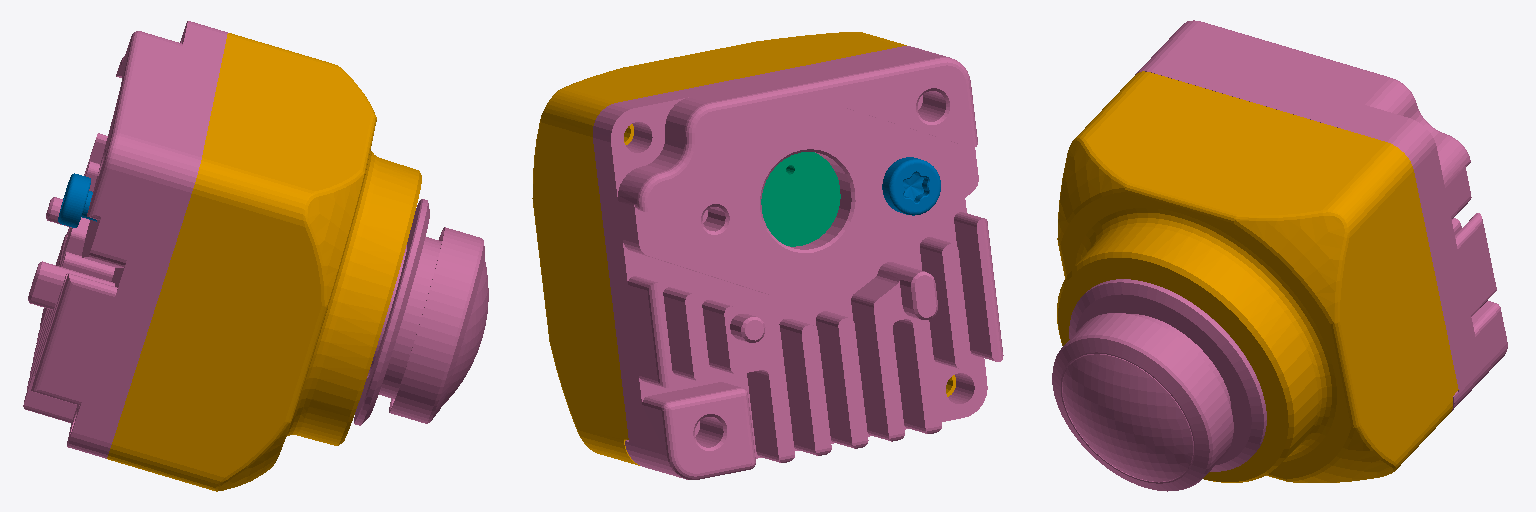
URDF robot description (SYW2G):
<?xml version="1.0"?>
<!-- Generated by usd2urdf.py from SYW2G.preview.usda -->
<!-- metersPerUnit=0.01 upAxis=Z -->
<robot name="SYW2G">
  <link name="base_link">
  </link>
  <link name="Root">
  </link>
  <link name="SYW2G">
  </link>
  <link name="Geometry">
  </link>
  <link name="SHF2GY">
  </link>
  <link name="Lens0">
  </link>
  <link name="Mesh">
    <visual>
      <origin xyz="0 0 0" rpy="0 0 0"/>
      <geometry>
        <mesh filename="meshes/Mesh.stl"/>
      </geometry>
    </visual>
    <collision>
      <origin xyz="0 0 0" rpy="0 0 0"/>
      <geometry>
        <mesh filename="meshes/Mesh.stl"/>
      </geometry>
    </collision>
  </link>
  <link name="Top">
  </link>
  <link name="Mesh_1">
    <visual>
      <origin xyz="0 0 0" rpy="0 0 0"/>
      <geometry>
        <mesh filename="meshes/Mesh_1.stl"/>
      </geometry>
    </visual>
    <collision>
      <origin xyz="0 0 0" rpy="0 0 0"/>
      <geometry>
        <mesh filename="meshes/Mesh_1.stl"/>
      </geometry>
    </collision>
  </link>
  <link name="Board">
  </link>
  <link name="Mesh_2">
    <visual>
      <origin xyz="0 0 0" rpy="0 0 0"/>
      <geometry>
        <mesh filename="meshes/Mesh_2.stl"/>
      </geometry>
    </visual>
    <collision>
      <origin xyz="0 0 0" rpy="0 0 0"/>
      <geometry>
        <mesh filename="meshes/Mesh_2.stl"/>
      </geometry>
    </collision>
  </link>
  <link name="Fakra">
  </link>
  <link name="Mesh_3">
    <visual>
      <origin xyz="0 0 0" rpy="0 0 0"/>
      <geometry>
        <mesh filename="meshes/Mesh_3.stl"/>
      </geometry>
    </visual>
    <collision>
      <origin xyz="0 0 0" rpy="0 0 0"/>
      <geometry>
        <mesh filename="meshes/Mesh_3.stl"/>
      </geometry>
    </collision>
  </link>
  <link name="Screw3">
  </link>
  <link name="Mesh_4">
    <visual>
      <origin xyz="0 0 0" rpy="0 0 0"/>
      <geometry>
        <mesh filename="meshes/Mesh_4.stl"/>
      </geometry>
    </visual>
    <collision>
      <origin xyz="0 0 0" rpy="0 0 0"/>
      <geometry>
        <mesh filename="meshes/Mesh_4.stl"/>
      </geometry>
    </collision>
  </link>
  <link name="Screw0">
  </link>
  <link name="Mesh_5">
    <visual>
      <origin xyz="0 0 0" rpy="0 0 0"/>
      <geometry>
        <mesh filename="meshes/Mesh_5.stl"/>
      </geometry>
    </visual>
    <collision>
      <origin xyz="0 0 0" rpy="0 0 0"/>
      <geometry>
        <mesh filename="meshes/Mesh_5.stl"/>
      </geometry>
    </collision>
  </link>
  <link name="Screw1">
  </link>
  <link name="Mesh_6">
    <visual>
      <origin xyz="0 0 0" rpy="0 0 0"/>
      <geometry>
        <mesh filename="meshes/Mesh_6.stl"/>
      </geometry>
    </visual>
    <collision>
      <origin xyz="0 0 0" rpy="0 0 0"/>
      <geometry>
        <mesh filename="meshes/Mesh_6.stl"/>
      </geometry>
    </collision>
  </link>
  <link name="Screw2">
  </link>
  <link name="Mesh_7">
    <visual>
      <origin xyz="0 0 0" rpy="0 0 0"/>
      <geometry>
        <mesh filename="meshes/Mesh_7.stl"/>
      </geometry>
    </visual>
    <collision>
      <origin xyz="0 0 0" rpy="0 0 0"/>
      <geometry>
        <mesh filename="meshes/Mesh_7.stl"/>
      </geometry>
    </collision>
  </link>
  <link name="Bottom">
  </link>
  <link name="Mesh_8">
    <visual>
      <origin xyz="0 0 0" rpy="0 0 0"/>
      <geometry>
        <mesh filename="meshes/Mesh_8.stl"/>
      </geometry>
    </visual>
    <collision>
      <origin xyz="0 0 0" rpy="0 0 0"/>
      <geometry>
        <mesh filename="meshes/Mesh_8.stl"/>
      </geometry>
    </collision>
  </link>
  <link name="Camera">
  </link>
  <joint name="base_link_to_Root" type="fixed">
    <parent link="base_link"/>
    <child link="Root"/>
    <origin xyz="0 0 0" rpy="0 0 0"/>
  </joint>
  <joint name="Root_to_SYW2G" type="fixed">
    <parent link="Root"/>
    <child link="SYW2G"/>
    <origin xyz="0 0 0" rpy="0 0 0"/>
  </joint>
  <joint name="SYW2G_to_Geometry" type="fixed">
    <parent link="SYW2G"/>
    <child link="Geometry"/>
    <origin xyz="0 0 0" rpy="0 0 0"/>
  </joint>
  <joint name="Geometry_to_SHF2GY" type="fixed">
    <parent link="Geometry"/>
    <child link="SHF2GY"/>
    <origin xyz="0 0 0" rpy="0 0 0"/>
  </joint>
  <joint name="SHF2GY_to_Lens0" type="fixed">
    <parent link="SHF2GY"/>
    <child link="Lens0"/>
    <origin xyz="-10.4600371 -12.4913916 5.2695647" rpy="0.00290744572 -1.29154242 -0.613889905"/>
  </joint>
  <joint name="Lens0_to_Mesh" type="fixed">
    <parent link="Lens0"/>
    <child link="Mesh"/>
    <origin xyz="0 0 0.0697377548" rpy="0 0 0"/>
  </joint>
  <joint name="SHF2GY_to_Top" type="fixed">
    <parent link="SHF2GY"/>
    <child link="Top"/>
    <origin xyz="0 0 0" rpy="0 0 0"/>
  </joint>
  <joint name="Top_to_Mesh_1" type="fixed">
    <parent link="Top"/>
    <child link="Mesh_1"/>
    <origin xyz="-10.601701 -12.3873901 5.31962952" rpy="0 0 0"/>
  </joint>
  <joint name="SHF2GY_to_Board" type="fixed">
    <parent link="SHF2GY"/>
    <child link="Board"/>
    <origin xyz="-10.7201511 -12.4306389 5.16745482" rpy="1.85005104 -0.00375945855 0.958853023"/>
  </joint>
  <joint name="Board_to_Mesh_2" type="fixed">
    <parent link="Board"/>
    <child link="Mesh_2"/>
    <origin xyz="0.1 0.166000001 -0.00775474727" rpy="0 0 0"/>
  </joint>
  <joint name="SHF2GY_to_Fakra" type="fixed">
    <parent link="SHF2GY"/>
    <child link="Fakra"/>
    <origin xyz="-10.779121 -12.2681412 5.42856497" rpy="3.14159265 -0.279252691 2.53072736"/>
  </joint>
  <joint name="Fakra_to_Mesh_3" type="fixed">
    <parent link="Fakra"/>
    <child link="Mesh_3"/>
    <origin xyz="-0.0820000038 3.71932983e-07 0.00174999952" rpy="0 0 0"/>
  </joint>
  <joint name="SHF2GY_to_Screw3" type="fixed">
    <parent link="SHF2GY"/>
    <child link="Screw3"/>
    <origin xyz="-18.896687 -11.4294475 -7.28794961" rpy="-0.033588191 -0.0562814107 -0.0724113616"/>
  </joint>
  <joint name="Screw3_to_Mesh_4" type="fixed">
    <parent link="Screw3"/>
    <child link="Mesh_4"/>
    <origin xyz="8.89367004 -0.800167351 12.0286584" rpy="0 0 0"/>
  </joint>
  <joint name="SHF2GY_to_Screw0" type="fixed">
    <parent link="SHF2GY"/>
    <child link="Screw0"/>
    <origin xyz="-18.7288203 -11.2906263 -7.08608465" rpy="-0.033588191 -0.0562814107 -0.0724113616"/>
  </joint>
  <joint name="Screw0_to_Mesh_5" type="fixed">
    <parent link="Screw0"/>
    <child link="Mesh_5"/>
    <origin xyz="8.89367004 -0.800167351 12.0286584" rpy="0 0 0"/>
  </joint>
  <joint name="SHF2GY_to_Screw1" type="fixed">
    <parent link="SHF2GY"/>
    <child link="Screw1"/>
    <origin xyz="-18.7941867 -11.2900253 -7.13253028" rpy="-0.033588191 -0.0562814106 -0.0724113617"/>
  </joint>
  <joint name="Screw1_to_Mesh_6" type="fixed">
    <parent link="Screw1"/>
    <child link="Mesh_6"/>
    <origin xyz="8.89367004 -0.800167351 12.0286584" rpy="0 0 0"/>
  </joint>
  <joint name="SHF2GY_to_Screw2" type="fixed">
    <parent link="SHF2GY"/>
    <child link="Screw2"/>
    <origin xyz="-18.8721931 -11.4014299 -7.13253028" rpy="-0.033588191 -0.0562814106 -0.0724113617"/>
  </joint>
  <joint name="Screw2_to_Mesh_7" type="fixed">
    <parent link="Screw2"/>
    <child link="Mesh_7"/>
    <origin xyz="8.89367004 -0.800167351 12.0286584" rpy="0 0 0"/>
  </joint>
  <joint name="SHF2GY_to_Bottom" type="fixed">
    <parent link="SHF2GY"/>
    <child link="Bottom"/>
    <origin xyz="-10.6977395 -12.3610843 5.33179352" rpy="-2.86233996 -2.56412669e-11 0.959931036"/>
  </joint>
  <joint name="Bottom_to_Mesh_8" type="fixed">
    <parent link="Bottom"/>
    <child link="Mesh_8"/>
    <origin xyz="0.0295990467 -0.00299999952 -0.0144538689" rpy="0 0 0"/>
  </joint>
  <joint name="SYW2G_to_Camera" type="fixed">
    <parent link="SYW2G"/>
    <child link="Camera"/>
    <origin xyz="0 0 0" rpy="0 0 0"/>
  </joint>
</robot>

--- Facts derived from the render (not from the file) ---
The picture shows the robot from 3 angles, left to right: view 1: azimuth 30°, elevation 25°; view 2: azimuth 150°, elevation 25°; view 3: azimuth 270°, elevation 25°; orthographic projection.
Robot: SYW2G — 24 links, 23 joints (23 fixed); root link base_link; default pose: all joints at 0.
Links seen in each view (by area): view 1: Mesh_1, Mesh_8, Mesh, Mesh_7; view 2: Mesh_8, Mesh_1, Mesh_2, Mesh_7; view 3: Mesh_1, Mesh, Mesh_8.
Boxes of the visible links, x1=… form: Mesh_1: x1=107, y1=33, x2=421, y2=491; Mesh_8: x1=23, y1=21, x2=227, y2=458; Mesh: x1=354, y1=199, x2=488, y2=425; Mesh_7: x1=58, y1=173, x2=96, y2=227; Mesh_8: x1=593, y1=46, x2=1003, y2=479; Mesh_1: x1=532, y1=32, x2=955, y2=465; Mesh_2: x1=761, y1=152, x2=840, y2=246; Mesh_7: x1=882, y1=157, x2=940, y2=215; Mesh_1: x1=1057, y1=71, x2=1458, y2=482; Mesh: x1=1052, y1=279, x2=1266, y2=491; Mesh_8: x1=1135, y1=20, x2=1507, y2=410.
Bounding box of the posed robot: 0.3555 × 0.3318 × 0.2893 m (x, y, z).
5 mesh visuals loaded from 9 distinct referenced files (5 binary STL); not drawn: 4 (reference not matched to a file when rendering).
